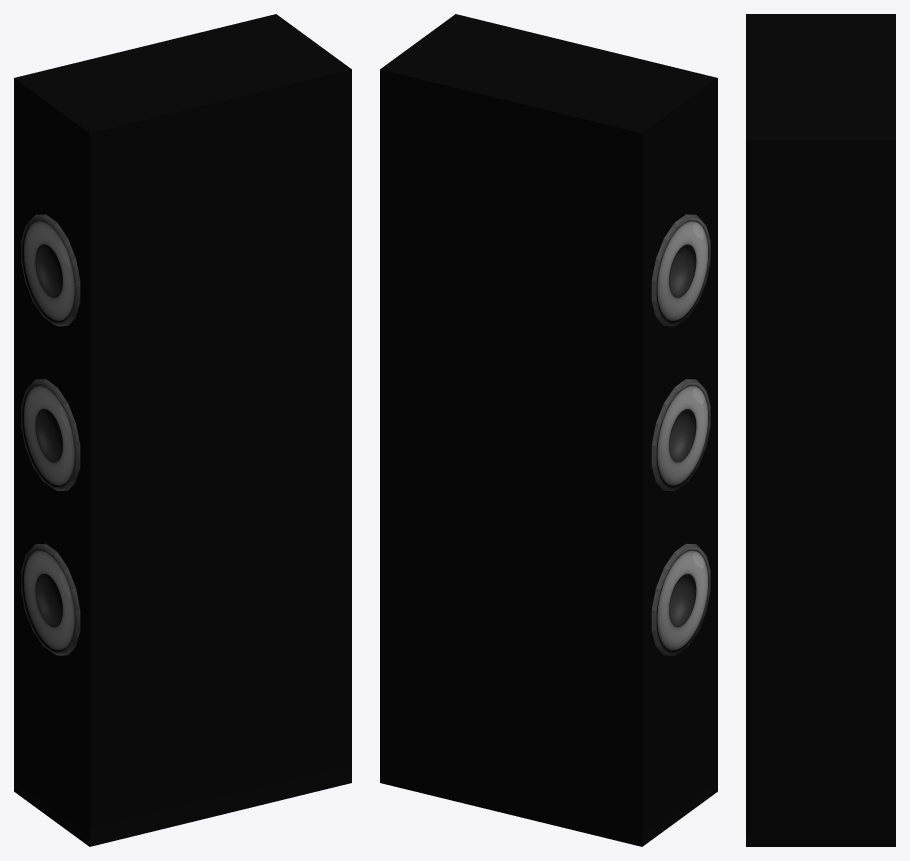
File: speaker1.glb
3 views of the same model, side by side, from view 1: azimuth 30°, elevation 25°; view 2: azimuth 150°, elevation 25°; view 3: azimuth 270°, elevation 25° (orthographic).
Parts seen in each view (by area): view 1: Speaker_Body1_lambert5_0.002, Speaker_Disc1_lambert5_0.002, Speaker_Disc2_lambert5_0.002, Speaker_Disc3_lambert5_0.002; view 2: Speaker_Body1_lambert5_0.002, Speaker_Disc1_lambert5_0.002, Speaker_Disc2_lambert5_0.002, Speaker_Disc3_lambert5_0.002; view 3: Speaker_Body1_lambert5_0.002.
Boxes of the visible parts, x1,y1,x2,y2 form: Speaker_Body1_lambert5_0.002: (14,14,351,846); Speaker_Disc1_lambert5_0.002: (21,214,80,326); Speaker_Disc2_lambert5_0.002: (21,379,80,490); Speaker_Disc3_lambert5_0.002: (21,543,80,655); Speaker_Body1_lambert5_0.002: (380,14,717,846); Speaker_Disc1_lambert5_0.002: (651,214,710,326); Speaker_Disc2_lambert5_0.002: (651,379,710,490); Speaker_Disc3_lambert5_0.002: (651,543,710,655); Speaker_Body1_lambert5_0.002: (746,14,895,846).
Bounding box in the file's own units: 0.5095 × 1.3 × 0.25.
1 material, 1 textured.
